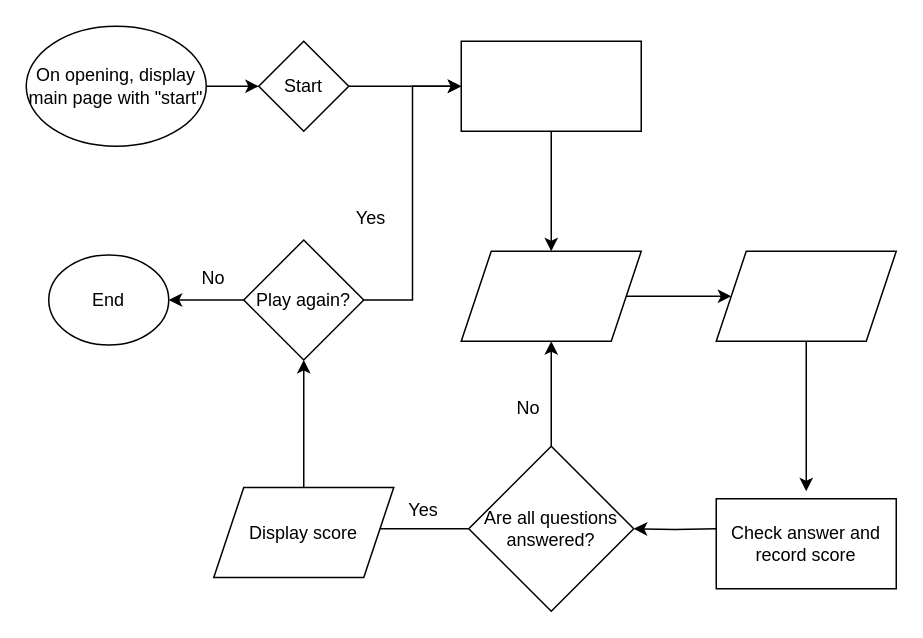
Some shapes in this 923 by 638 pixel diagram are drawn without their labels. The shapes that lost their labels are listed below. From the top down, each one's centre as x and y in pixels, then its label:
[550,85]: Randomly selects 5 audio files from CSV
[550,295]: Display audio and question from file
[805,295]: Prompt user for text input
